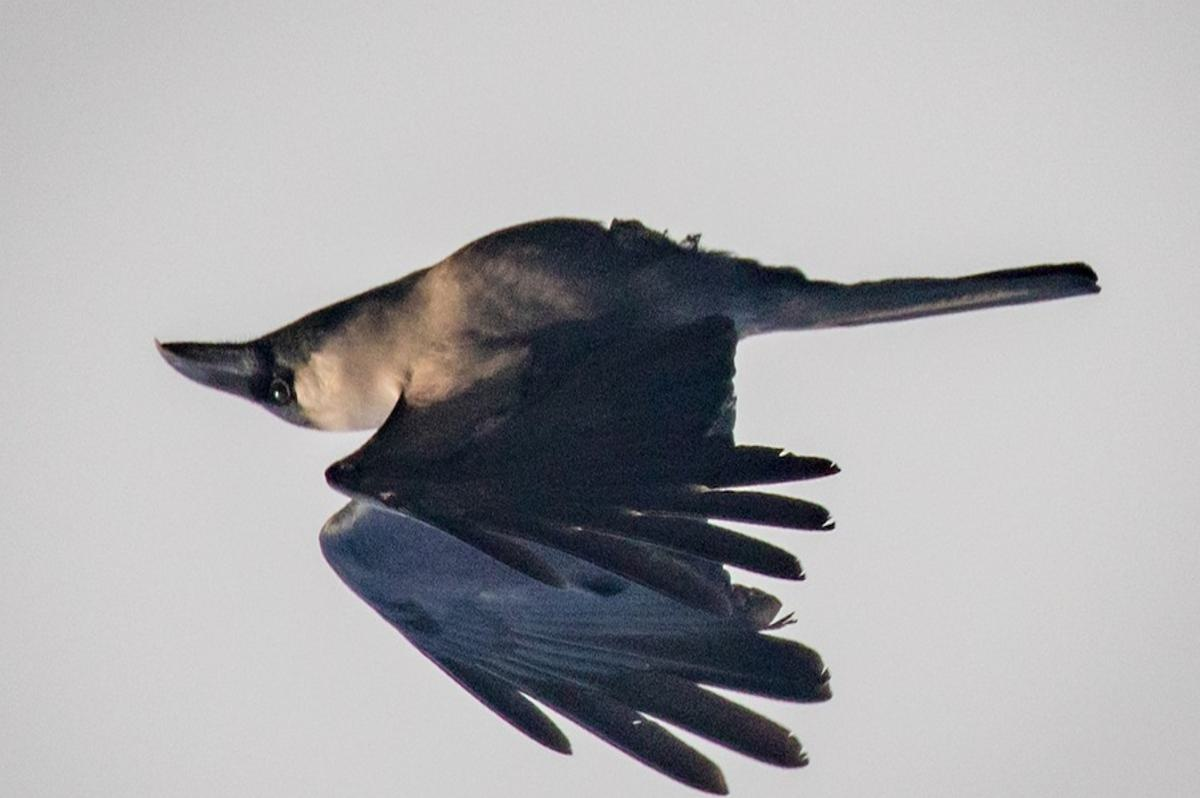crow: (151, 204, 1140, 792)
